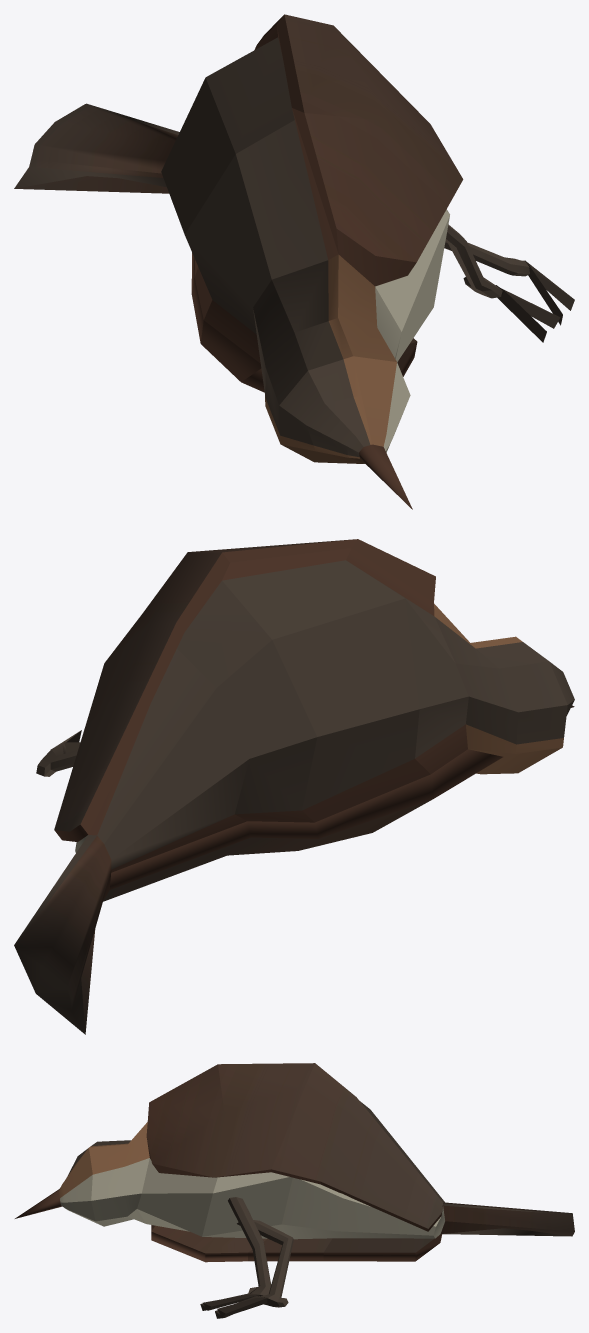
File: pajaritodeadcontextura.fbx
The picture shows the model from 3 angles, top to bottom: view 1: azimuth 30°, elevation 25°; view 2: azimuth 150°, elevation 25°; view 3: azimuth 270°, elevation 25°; orthographic projection. The views are drawn at different scales.
Visible parts, largest first — view 1: pCylinder1; view 2: pCylinder1; view 3: pCylinder1.
Part boxes in pixels (<box>): pCylinder1: <box>14,14,574,509</box>; pCylinder1: <box>14,539,574,1034</box>; pCylinder1: <box>15,1063,574,1318</box>.
Size of the model in its own units: 0.4176 by 0.3206 by 0.8252.
Materials: 1 (1 with a texture image).
